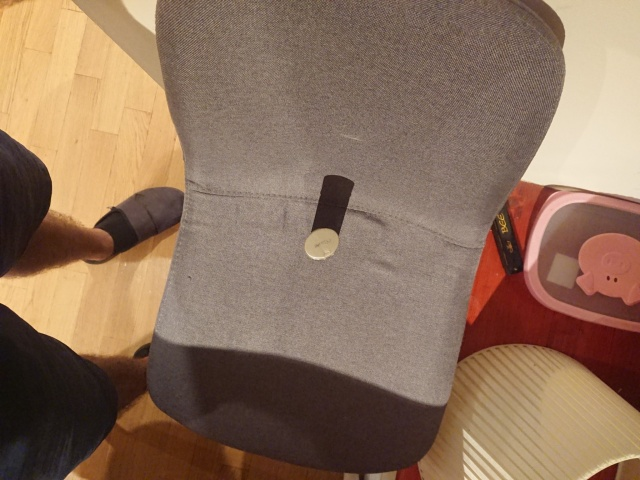Kotanyi Garlic Granules 70g: (303, 225, 341, 261)
